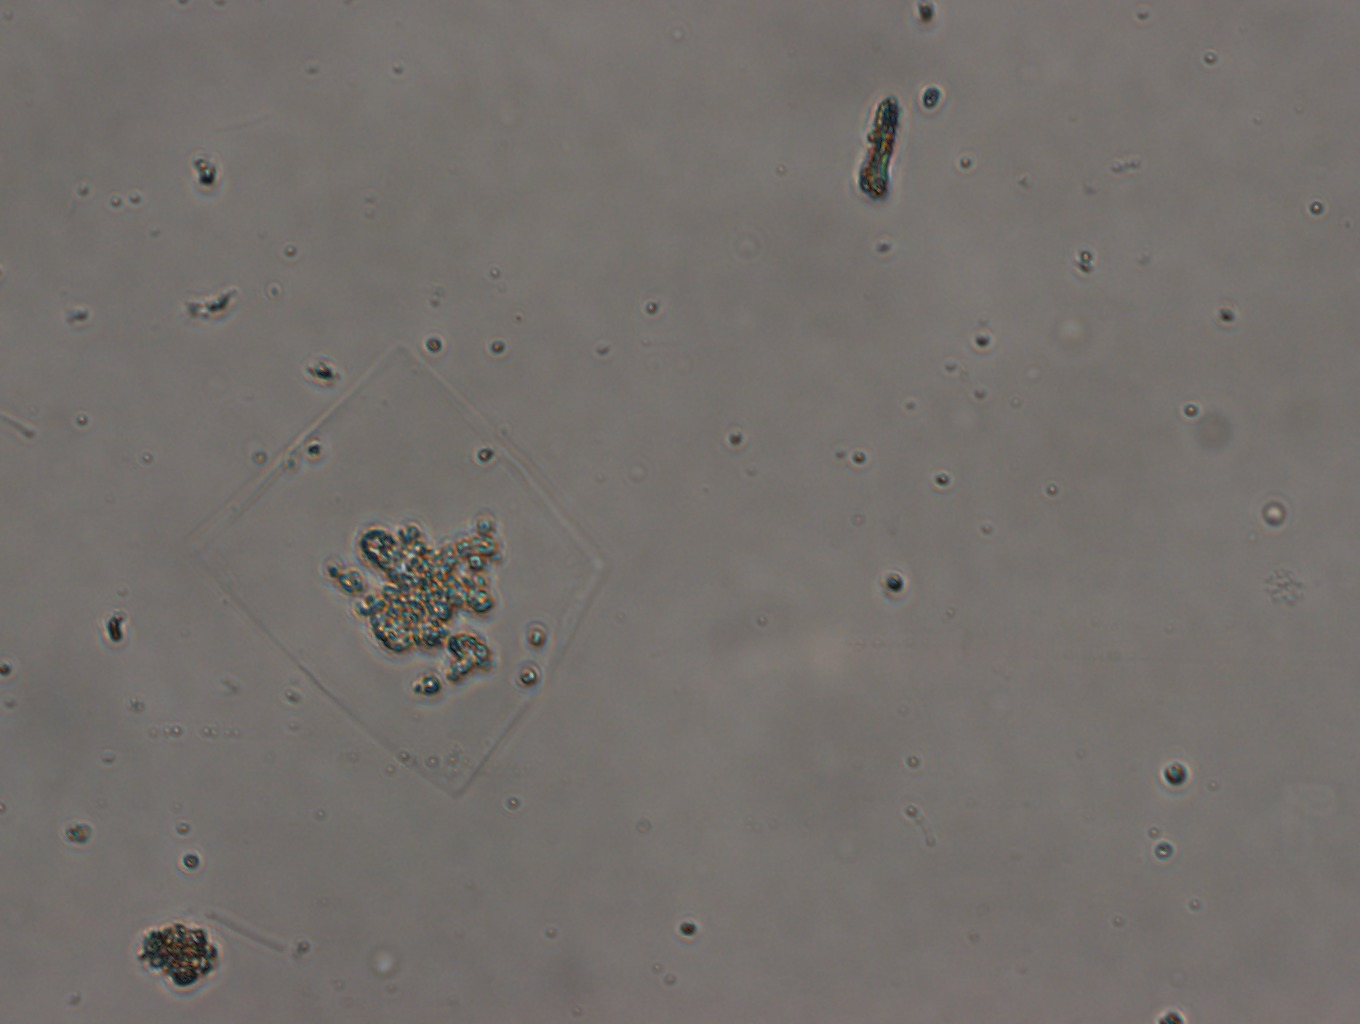helicotheca: (182, 341, 610, 800)
